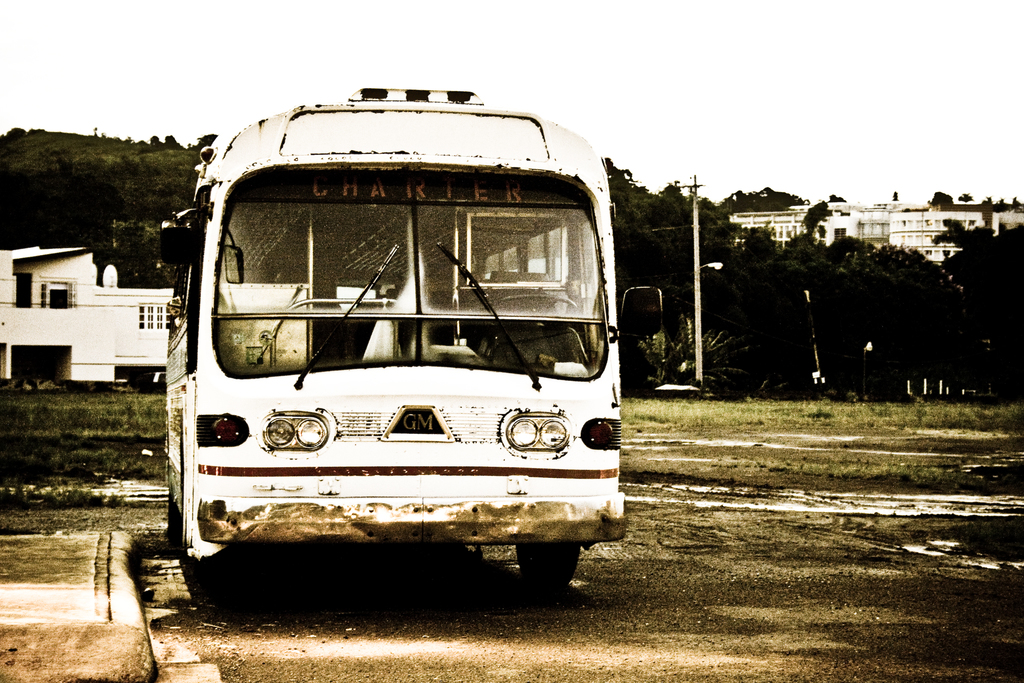Bus: (151, 78, 667, 593)
